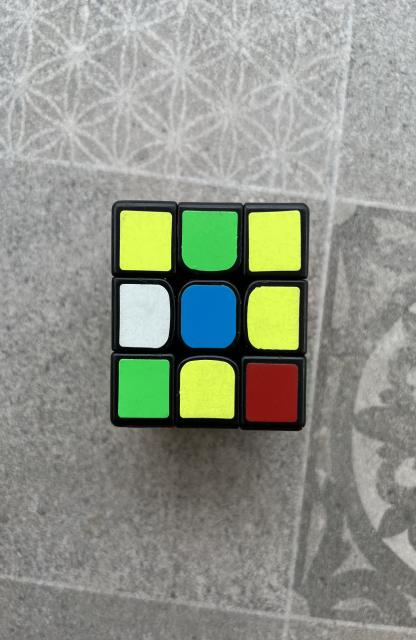Blue: (181, 285, 236, 349)
Green: (181, 210, 238, 271), (118, 359, 170, 419)
Red: (246, 362, 298, 422)
White: (119, 284, 170, 349)
Yellow: (247, 286, 300, 350), (180, 360, 235, 419), (119, 210, 172, 271), (248, 210, 301, 271)
